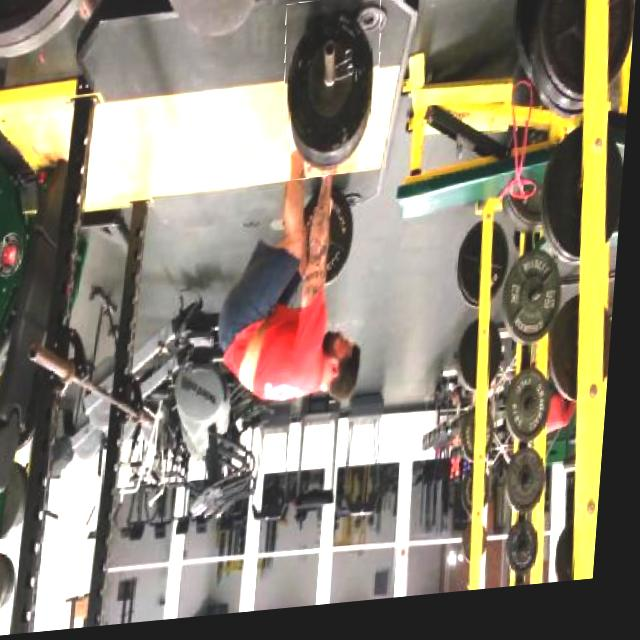barbell: (281, 1, 390, 188)
